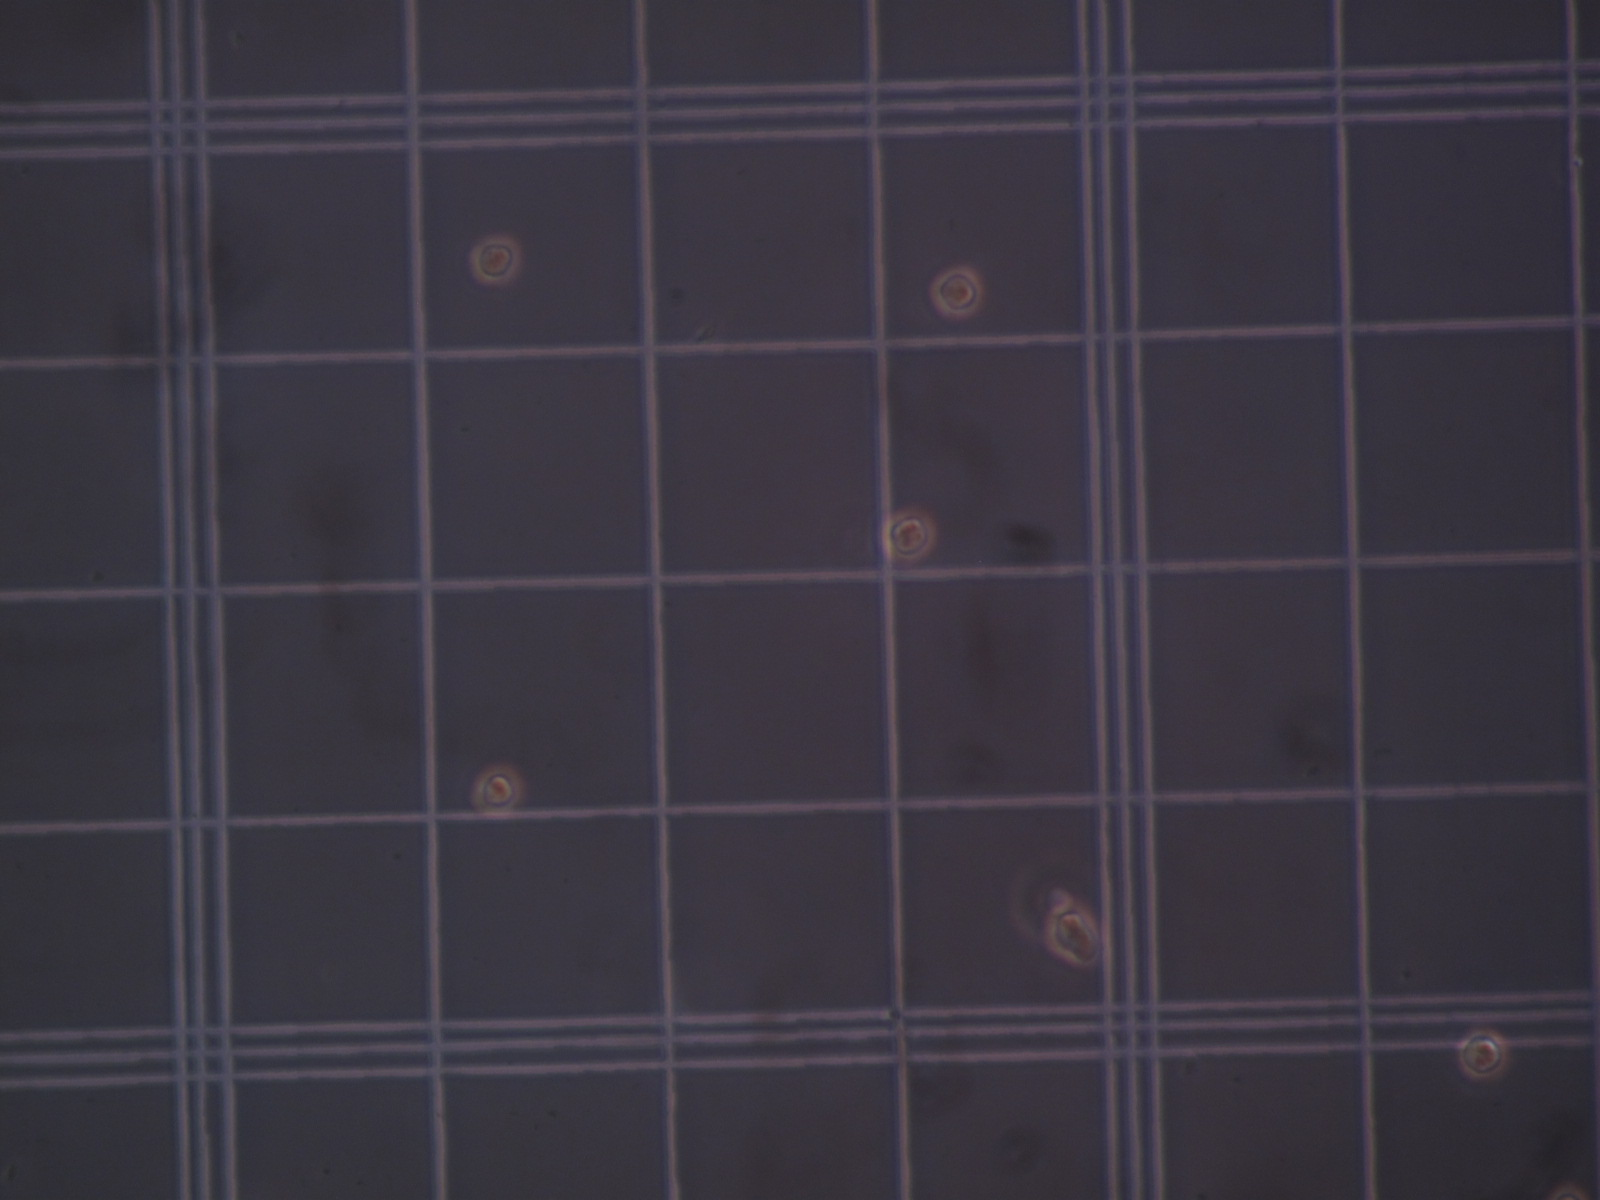hemo: (1046, 905, 1102, 966), (881, 507, 936, 562), (929, 266, 984, 318), (472, 764, 524, 818), (1456, 1029, 1508, 1080), (469, 234, 520, 284), (1546, 1184, 1590, 1200)
